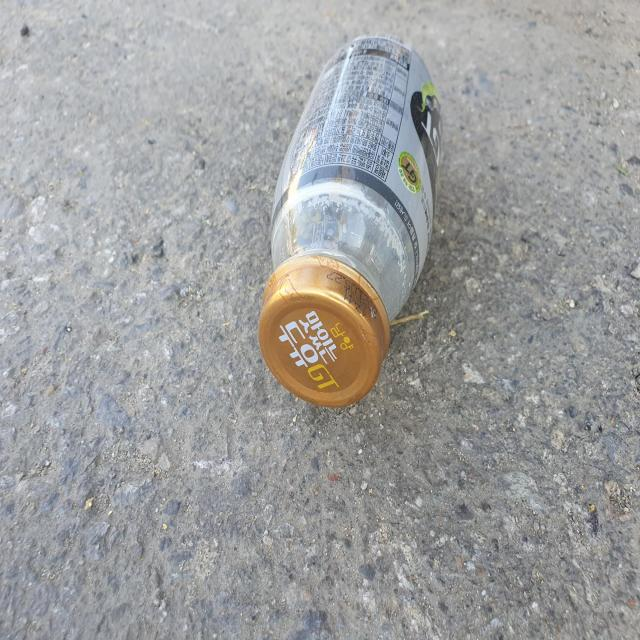glass: (259, 36, 440, 406)
